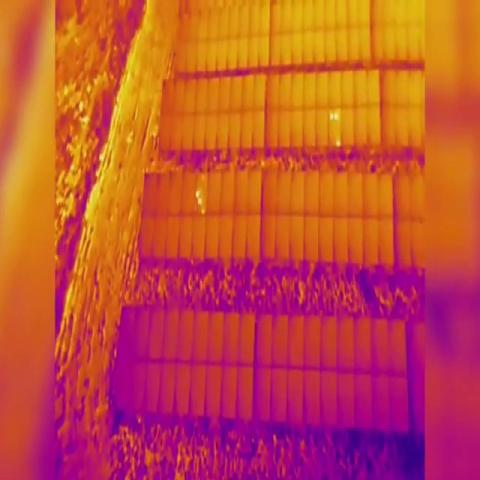fault: (335, 136, 342, 152), (201, 207, 207, 218), (328, 112, 334, 123), (194, 190, 200, 199), (333, 113, 340, 120), (199, 196, 203, 206)
